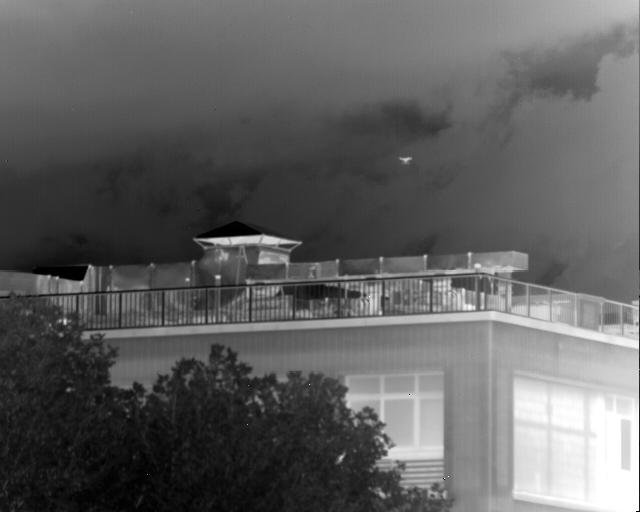plane: (399, 156, 413, 164)
